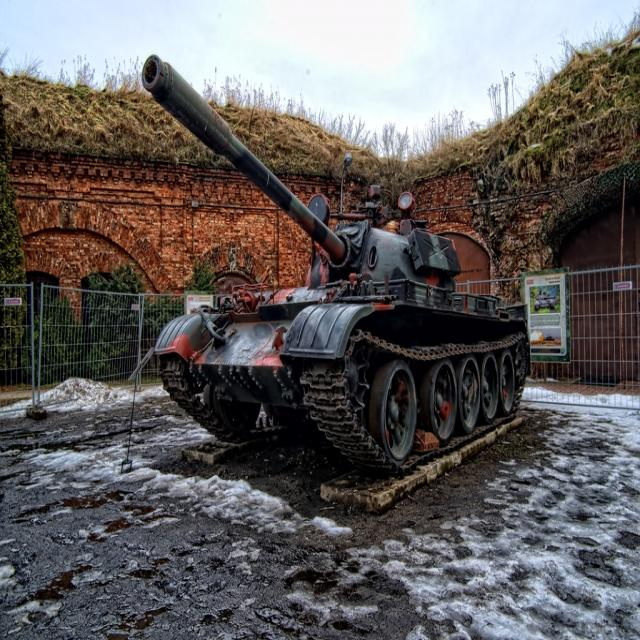tank: (141, 53, 530, 477)
